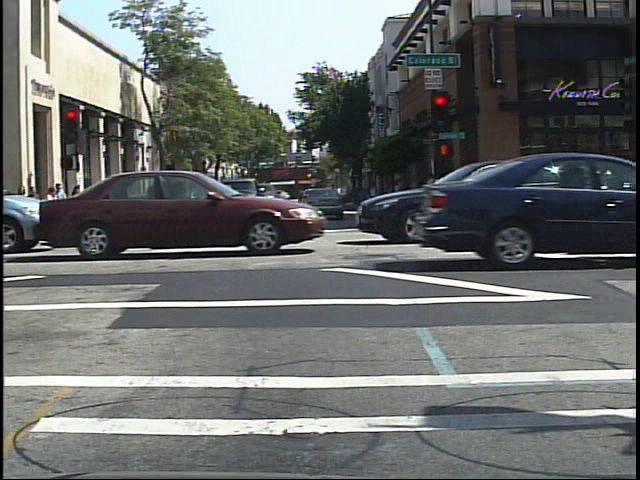person: (596, 157, 622, 222)
